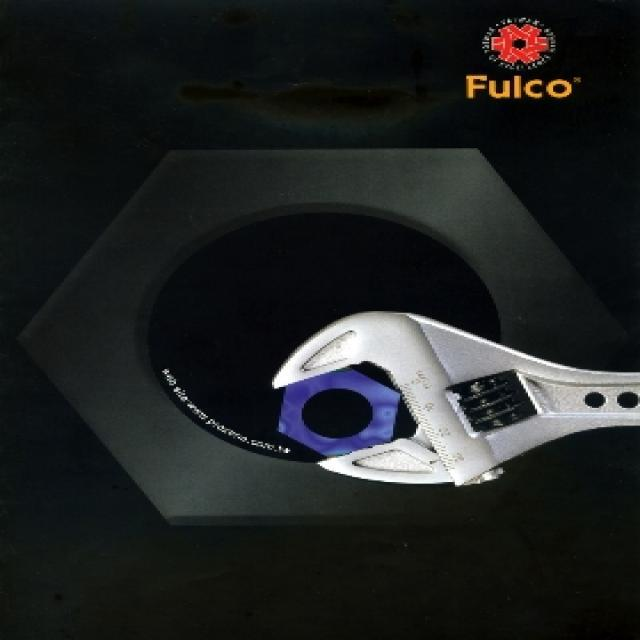wrench: (268, 302, 640, 496)
